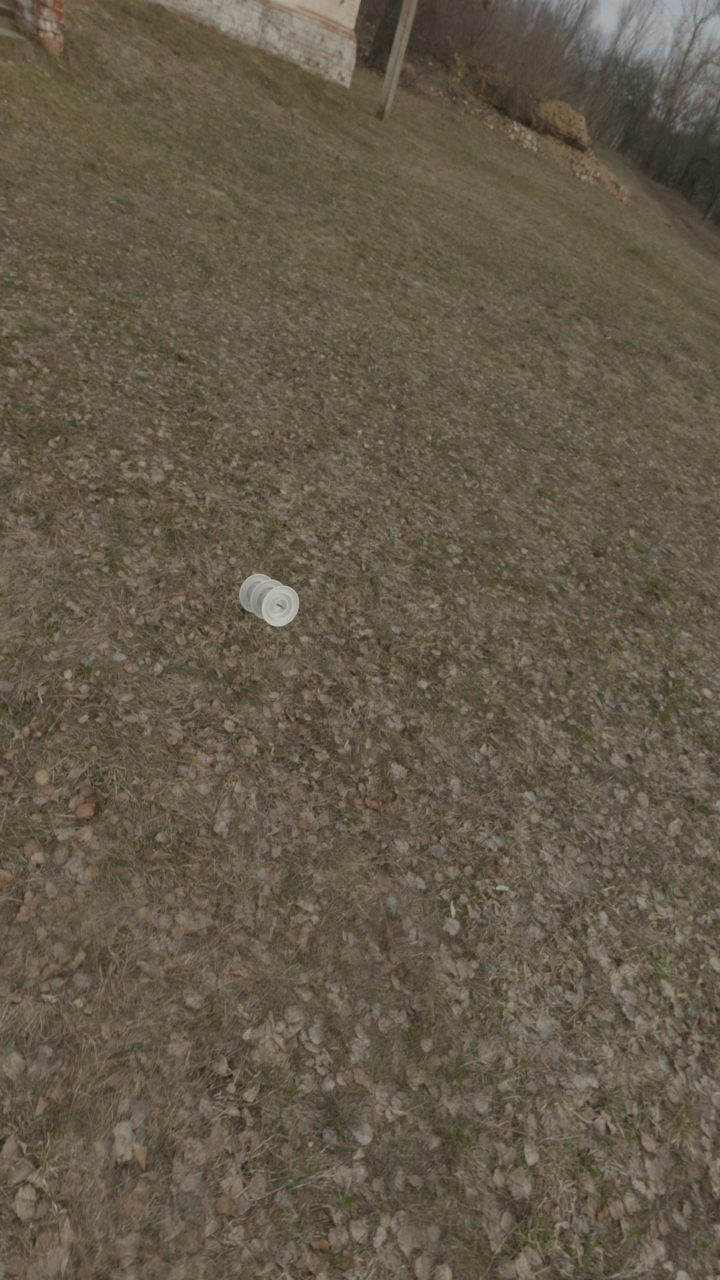ceramicinsulators: (239, 574, 299, 627)
